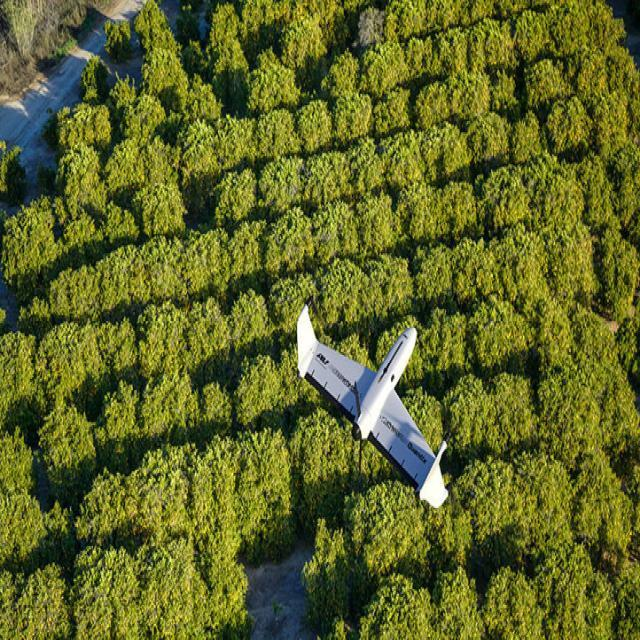iha: (276, 275, 453, 519)
